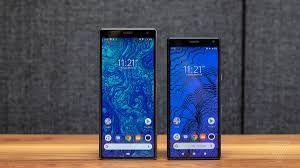sony: (96, 28, 158, 161), (163, 35, 224, 159)
